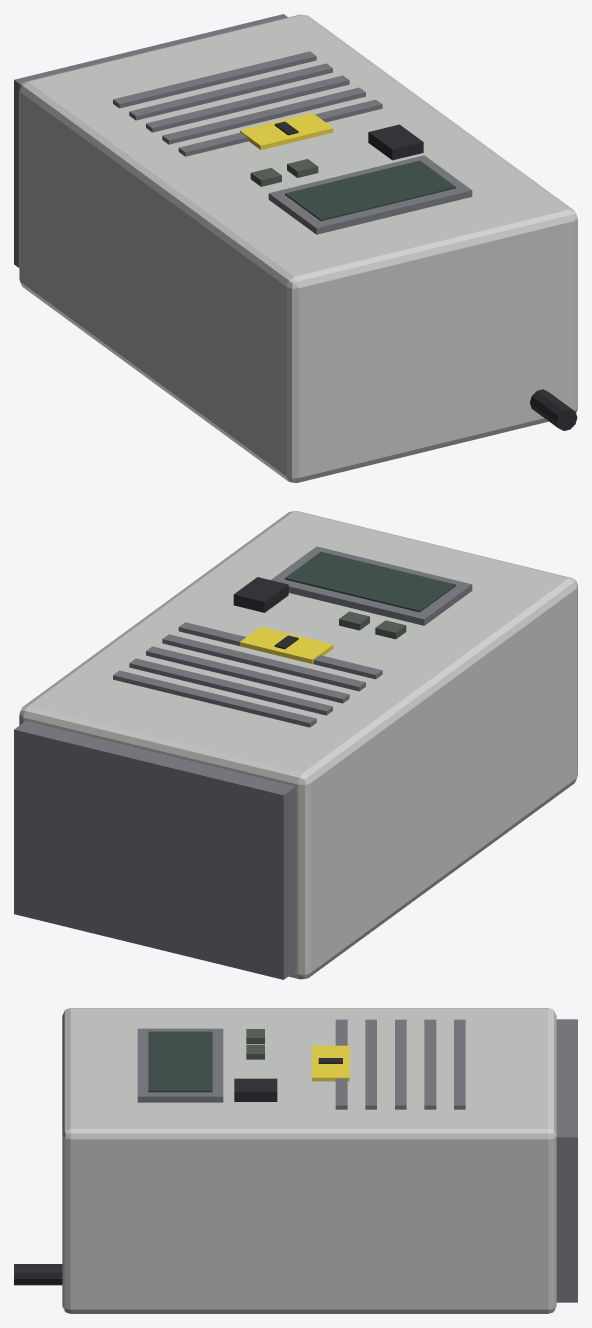
File: inverter.obj
The picture shows the model from 3 angles, top to bottom: view 1: azimuth 30°, elevation 25°; view 2: azimuth 150°, elevation 25°; view 3: azimuth 270°, elevation 25°; orthographic projection. The views are drawn at different scales.
Bounding box in the file's own units: 0.56 × 0.406 × 1.05.
